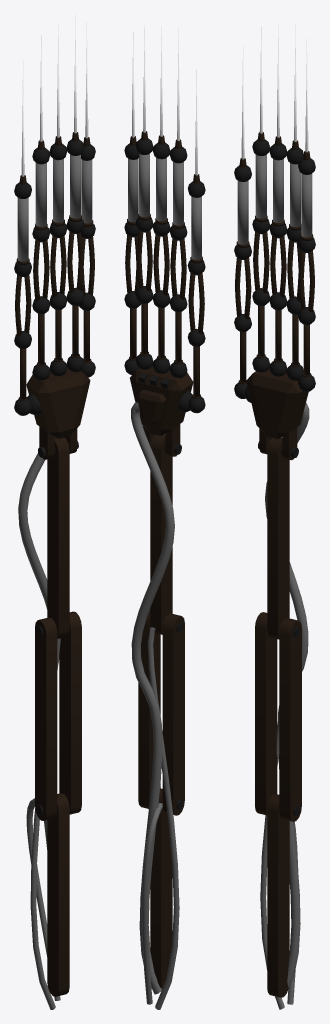
Rendered from TheArm.fbx.
3 views of the same model, side by side, from view 1: azimuth 30°, elevation 25°; view 2: azimuth 150°, elevation 25°; view 3: azimuth 330°, elevation 25° (orthographic).
Visible parts, largest first — view 1: Cube.031, Cube.032, Cube.038, Cube.039, BézierCurve.026, BézierCurve.024, BézierCurve.025, 6.016, 6.020, 6.017, 6.018, 6.019 (+32 smaller); view 2: Cube.031, BézierCurve.026, Cube.032, Cube.038, BézierCurve.024, Cube.039, BézierCurve.025, Cube.033, 6.016, 6.019, 6.020, 6.018 (+33 smaller); view 3: Cube.031, Cube.032, Cube.038, Cube.039, BézierCurve.026, BézierCurve.024, 6.016, 6.017, 6.020, 6.019, 6.018, Cube.037 (+32 smaller).
Boxes of the visible parts, <box> form: Cube.031: <box>35,611,81,820</box>; Cube.032: <box>47,793,69,996</box>; Cube.038: <box>47,437,69,638</box>; Cube.039: <box>26,368,90,438</box>; BézierCurve.026: <box>18,453,59,849</box>; BézierCurve.024: <box>30,638,60,1009</box>; BézierCurve.025: <box>26,798,60,1000</box>; 6.016: <box>17,197,28,261</box>; 6.020: <box>35,163,46,226</box>; 6.017: <box>81,159,92,223</box>; 6.018: <box>70,154,80,218</box>; 6.019: <box>53,158,63,222</box>; Cube.031: <box>138,609,184,815</box>; BézierCurve.026: <box>131,402,174,994</box>; Cube.032: <box>150,788,172,988</box>; Cube.038: <box>150,434,172,634</box>; BézierCurve.024: <box>147,627,179,1009</box>; Cube.039: <box>130,365,193,435</box>; BézierCurve.025: <box>141,803,162,1004</box>; Cube.033: <box>136,389,166,424</box>; 6.016: <box>191,196,201,259</box>; 6.019: <box>156,158,166,221</box>; 6.020: <box>173,162,183,225</box>; 6.018: <box>139,153,149,217</box>; Cube.031: <box>255,612,301,821</box>; Cube.032: <box>267,794,289,997</box>; Cube.038: <box>267,437,289,639</box>; Cube.039: <box>246,368,308,439</box>; BézierCurve.026: <box>265,403,309,987</box>; BézierCurve.024: <box>260,713,284,1009</box>; 6.016: <box>237,180,248,244</box>; 6.017: <box>301,173,312,237</box>; 6.020: <box>255,154,266,218</box>; 6.019: <box>273,159,283,222</box>; 6.018: <box>290,163,300,227</box>; Cube.037: <box>259,427,297,460</box>.
Size of the model in its own units: 69.8 by 835 by 47.32.
